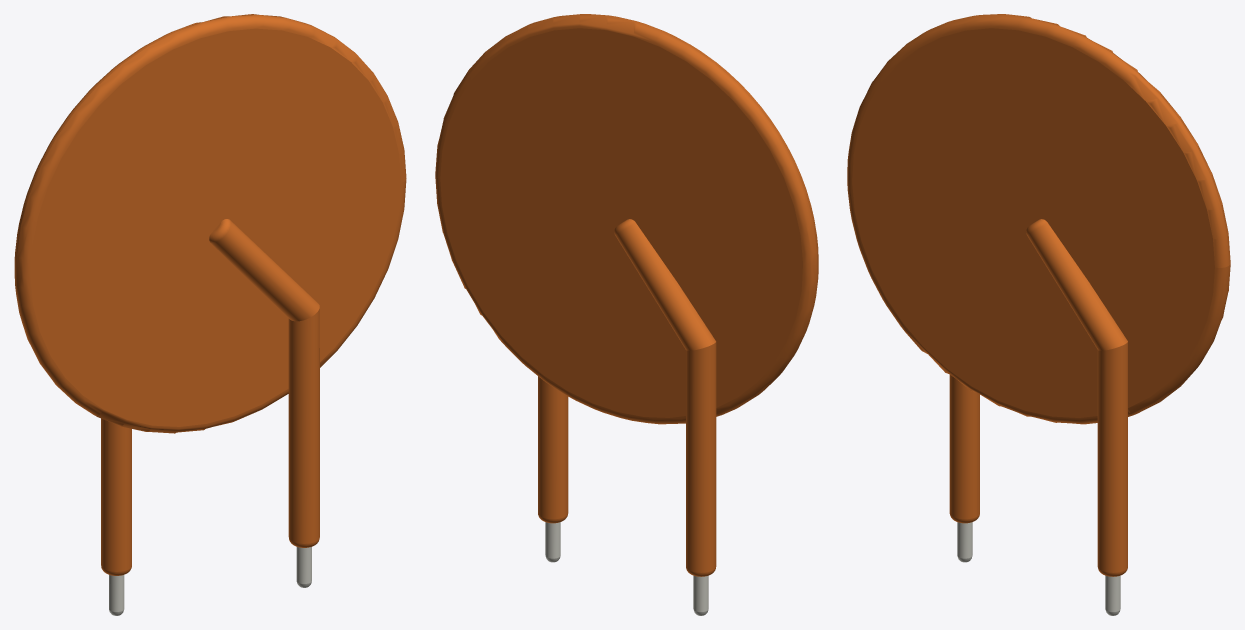
File: kc-fuse_belfuse_0zre_0zre0150ff_l23.4mm_w5.3mm.glb
3 renders of one model, left to right at view 1: azimuth 30°, elevation 25°; view 2: azimuth 150°, elevation 25°; view 3: azimuth 330°, elevation 25°, orthographic. The views are drawn at different scales.
Parts seen in each view (by area): view 1: 0.5833333333333334_0.16666666666666666_0_0, 0.6666666666666666_0.6666666666666666_0.5833333333333334_0.8; view 2: 0.5833333333333334_0.16666666666666666_0_0, 0.6666666666666666_0.6666666666666666_0.5833333333333334_0.8; view 3: 0.5833333333333334_0.16666666666666666_0_0, 0.6666666666666666_0.6666666666666666_0.5833333333333334_0.8.
Part boxes in pixels (left/top/right/bottom): 0.5833333333333334_0.16666666666666666_0_0: left=14, top=14, right=406, bottom=575; 0.6666666666666666_0.6666666666666666_0.5833333333333334_0.8: left=109, top=547, right=311, bottom=615; 0.5833333333333334_0.16666666666666666_0_0: left=435, top=14, right=818, bottom=576; 0.6666666666666666_0.6666666666666666_0.5833333333333334_0.8: left=545, top=522, right=708, bottom=615; 0.5833333333333334_0.16666666666666666_0_0: left=847, top=14, right=1230, bottom=576; 0.6666666666666666_0.6666666666666666_0.5833333333333334_0.8: left=957, top=522, right=1120, bottom=615.
Size of the model in its own units: 2.34 by 3.34 by 0.3518.
